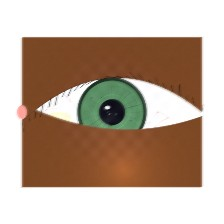pinguecula_lesion: (33, 98, 84, 139)
